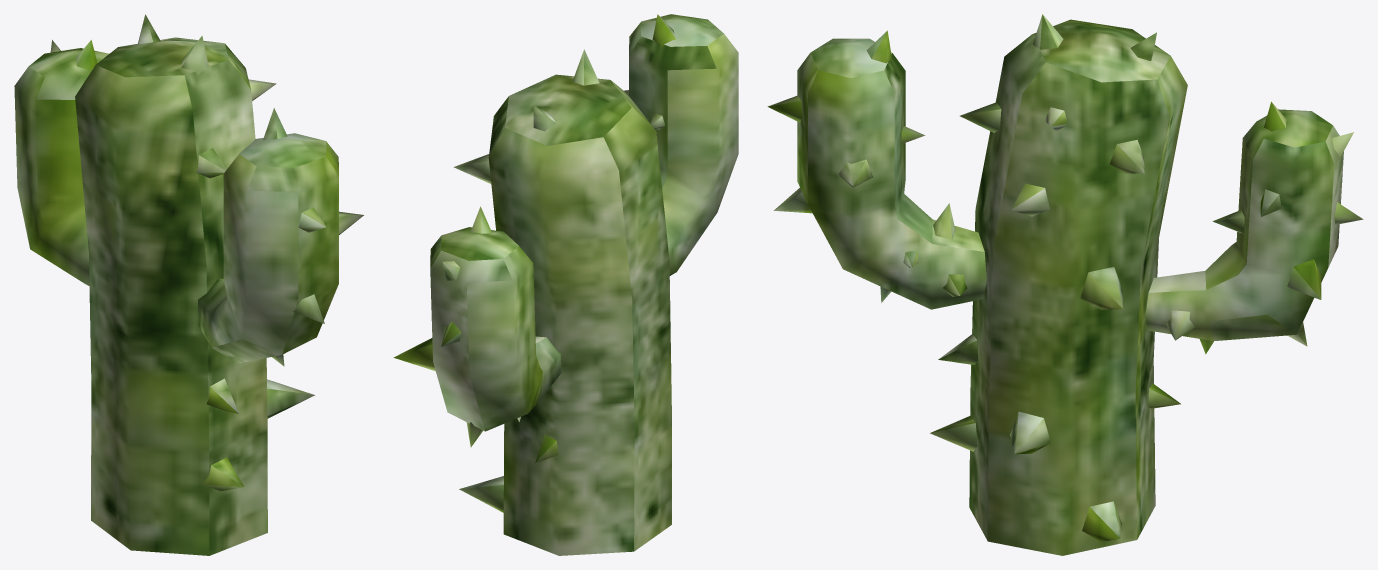
The model's file is cactus.fbx.
3 renders of one model, left to right at view 1: azimuth 30°, elevation 25°; view 2: azimuth 150°, elevation 25°; view 3: azimuth 270°, elevation 25°, orthographic. The views are drawn at different scales.
Visible parts, largest first — view 1: cactus; view 2: cactus; view 3: cactus.
Part boxes in pixels (bbox=[...]): cactus: bbox=[14, 14, 363, 555]; cactus: bbox=[393, 14, 738, 555]; cactus: bbox=[767, 14, 1363, 555].
Bounding box in the file's own units: 3.48 × 8.92 × 9.5.
Materials: 1 (1 with a texture image).
